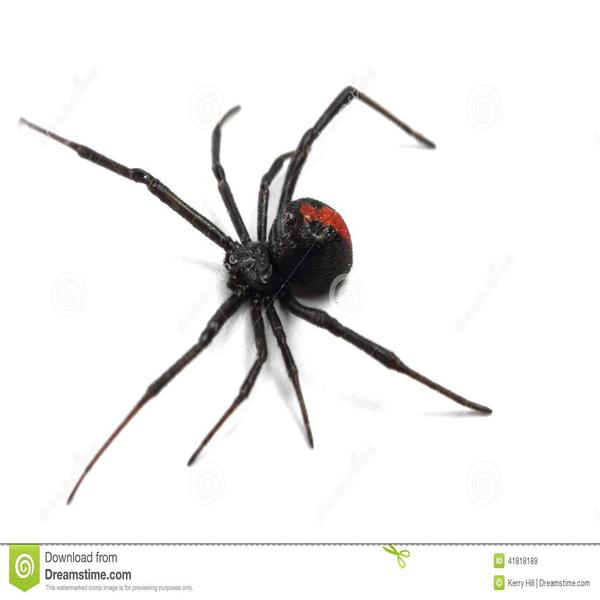Redback Spider: (26, 86, 491, 490)
